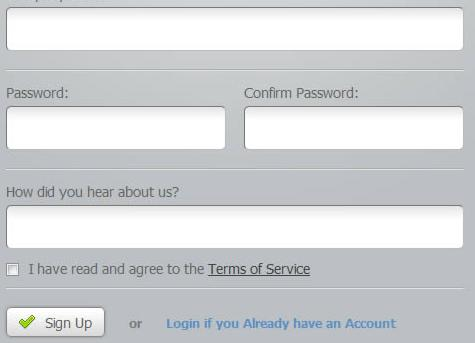button: (6, 307, 106, 337)
field: (3, 5, 465, 51), (4, 203, 465, 249), (4, 105, 227, 151), (240, 105, 465, 149)
